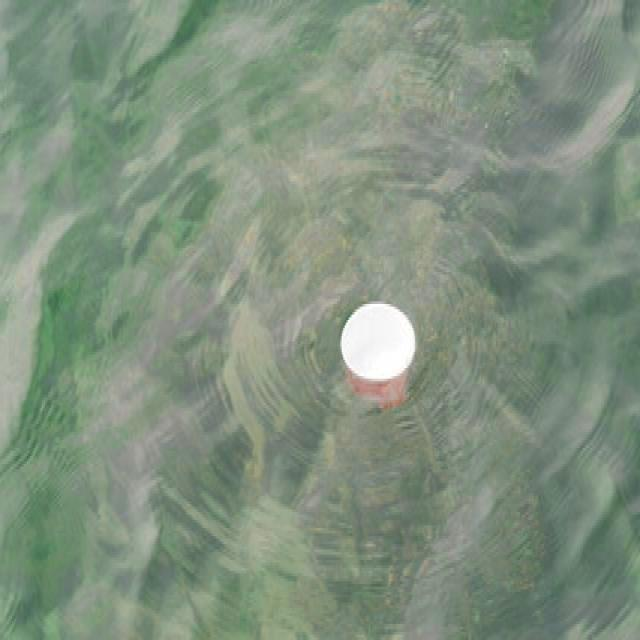Plastic: (336, 295, 416, 391)
